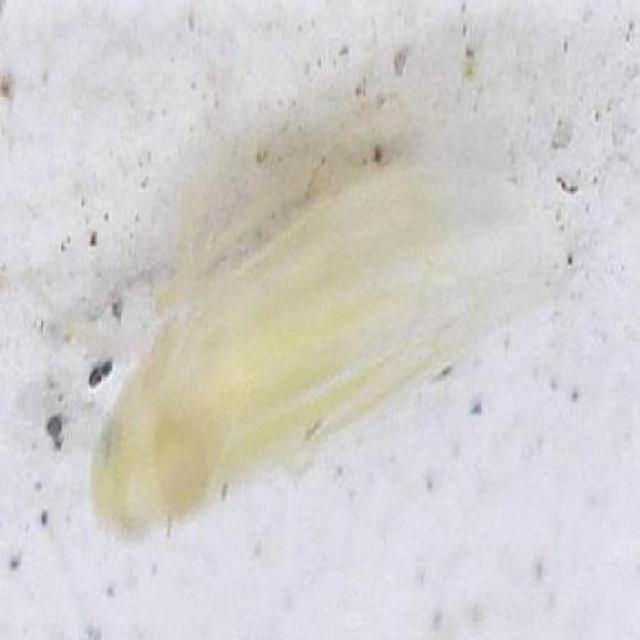green-leafhopper: (86, 122, 551, 549)
